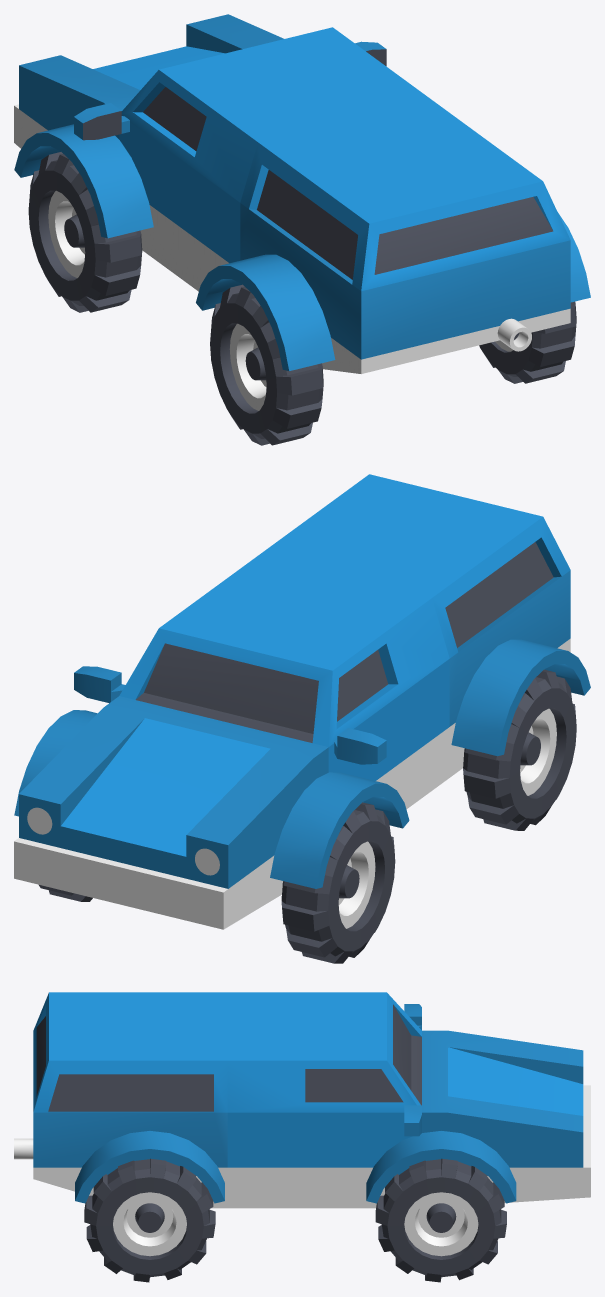
File: Traffic Offroad Blue.fbx
3 views of the same model, one above another, from view 1: azimuth 30°, elevation 25°; view 2: azimuth 150°, elevation 25°; view 3: azimuth 270°, elevation 25° (orthographic). The views are drawn at different scales.
Parts seen in each view (by area): view 1: trunk_station_87, windshield_square_83, wheel_dirt_107, wheel_dirt_108, hood_square_116, detail_fender_110, detail_fender_109, wheel_dirt_114, detail_mirror_101, detail_fender_113, detail_exhaust_103; view 2: hood_square_116, windshield_square_83, trunk_station_87, wheel_dirt_107, wheel_dirt_108, detail_fender_109, detail_fender_110, detail_fender_111, detail_mirror_101, detail_mirror_102; view 3: windshield_square_83, trunk_station_87, hood_square_116, wheel_dirt_114, wheel_dirt_112, detail_fender_111, detail_fender_113, detail_mirror_102, detail_exhaust_103.
Boxes of the visible parts, x1,y1,x2,y2 form: trunk_station_87: (240, 100, 570, 373); windshield_square_83: (119, 27, 431, 291); wheel_dirt_107: (28, 152, 142, 312); wheel_dirt_108: (210, 284, 323, 445); hood_square_116: (14, 14, 283, 148); detail_fender_110: (196, 254, 335, 371); detail_fender_109: (14, 124, 153, 238); wheel_dirt_114: (479, 301, 576, 383); detail_mirror_101: (74, 103, 129, 140); detail_fender_113: (557, 212, 590, 302); detail_exhaust_103: (497, 318, 531, 351); hood_square_116: (14, 696, 328, 929); windshield_square_83: (119, 555, 449, 809); trunk_station_87: (258, 474, 570, 777); wheel_dirt_107: (281, 802, 395, 963); wheel_dirt_108: (463, 669, 576, 830); detail_fender_109: (270, 772, 409, 888); detail_fender_110: (451, 639, 590, 756); detail_fender_111: (14, 710, 97, 816); detail_mirror_101: (334, 728, 386, 764); detail_mirror_102: (74, 666, 125, 703); windshield_square_83: (227, 992, 421, 1208); trunk_station_87: (33, 992, 227, 1208); hood_square_116: (422, 1030, 590, 1202); wheel_dirt_114: (84, 1158, 215, 1282); wheel_dirt_112: (375, 1158, 506, 1282); detail_fender_111: (366, 1131, 516, 1203); detail_fender_113: (75, 1131, 224, 1203); detail_mirror_102: (404, 1105, 421, 1136); detail_exhaust_103: (14, 1138, 33, 1159).
Bounding box in the file's own units: 14.5 × 11.38 × 29.7.
